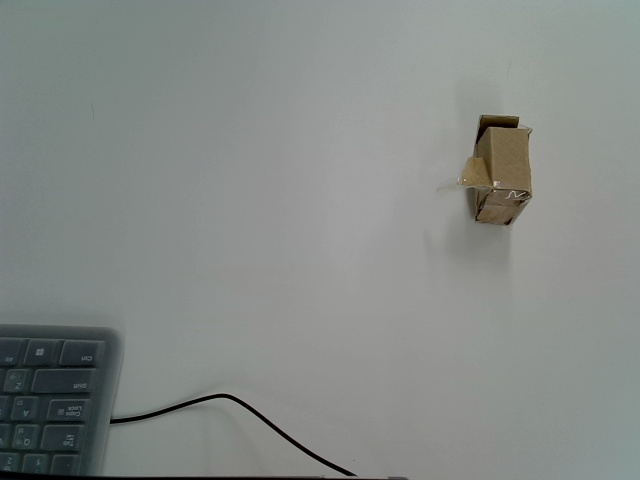defect: (435, 115, 534, 225)
